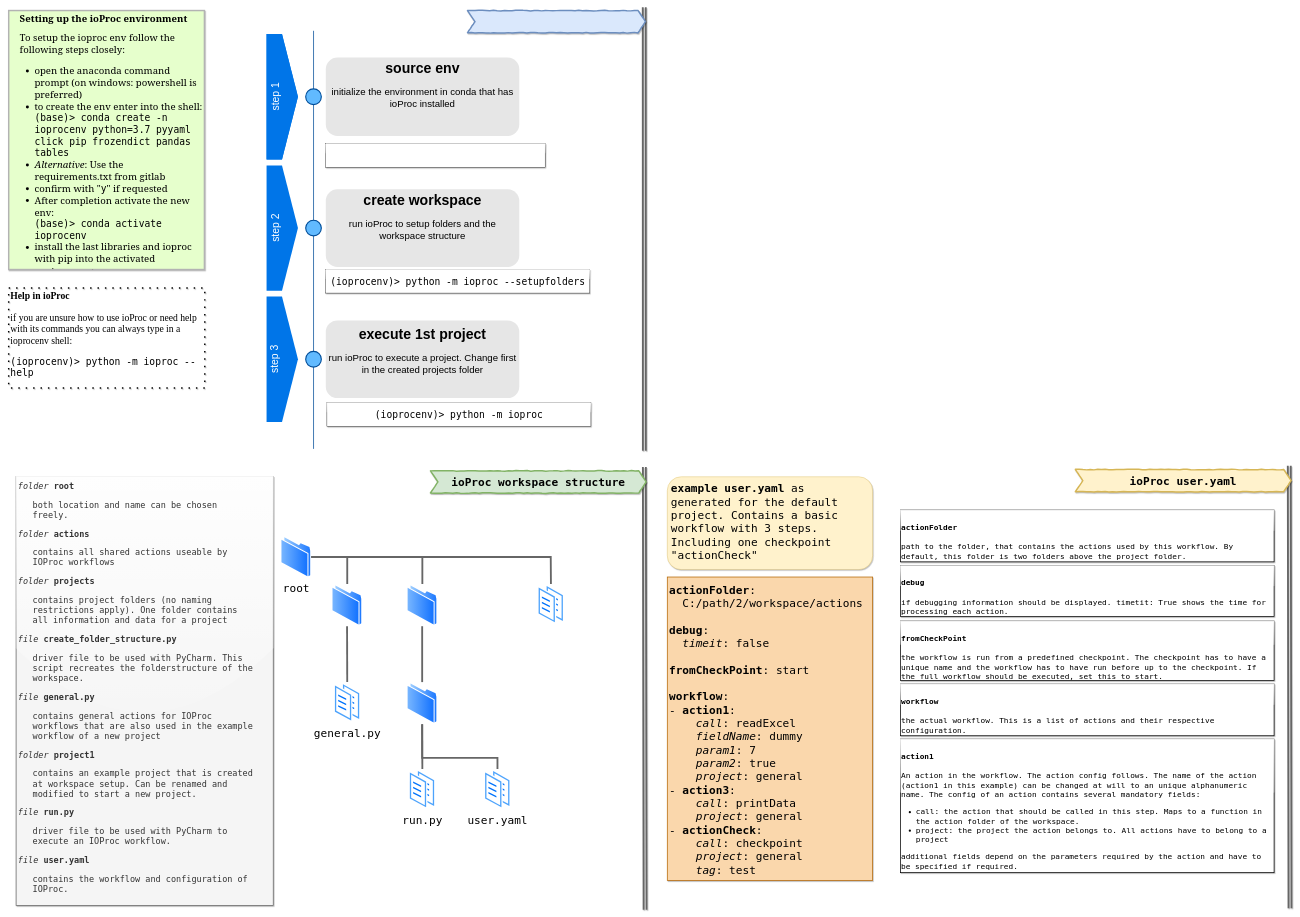
Some shapes in this 1300 by 917 pixel diagram are drawn without their labels. Here are the shapes that lost their labels. From the top down, the centre of each, then its label:
(x=556, y=22): setup ioProc workspace
(x=435, y=156): (base)> conda activate ioprocenv
(x=347, y=605): actions
(x=422, y=605): projects
(x=550, y=604): create_folder_structure.py
(x=422, y=703): project1
